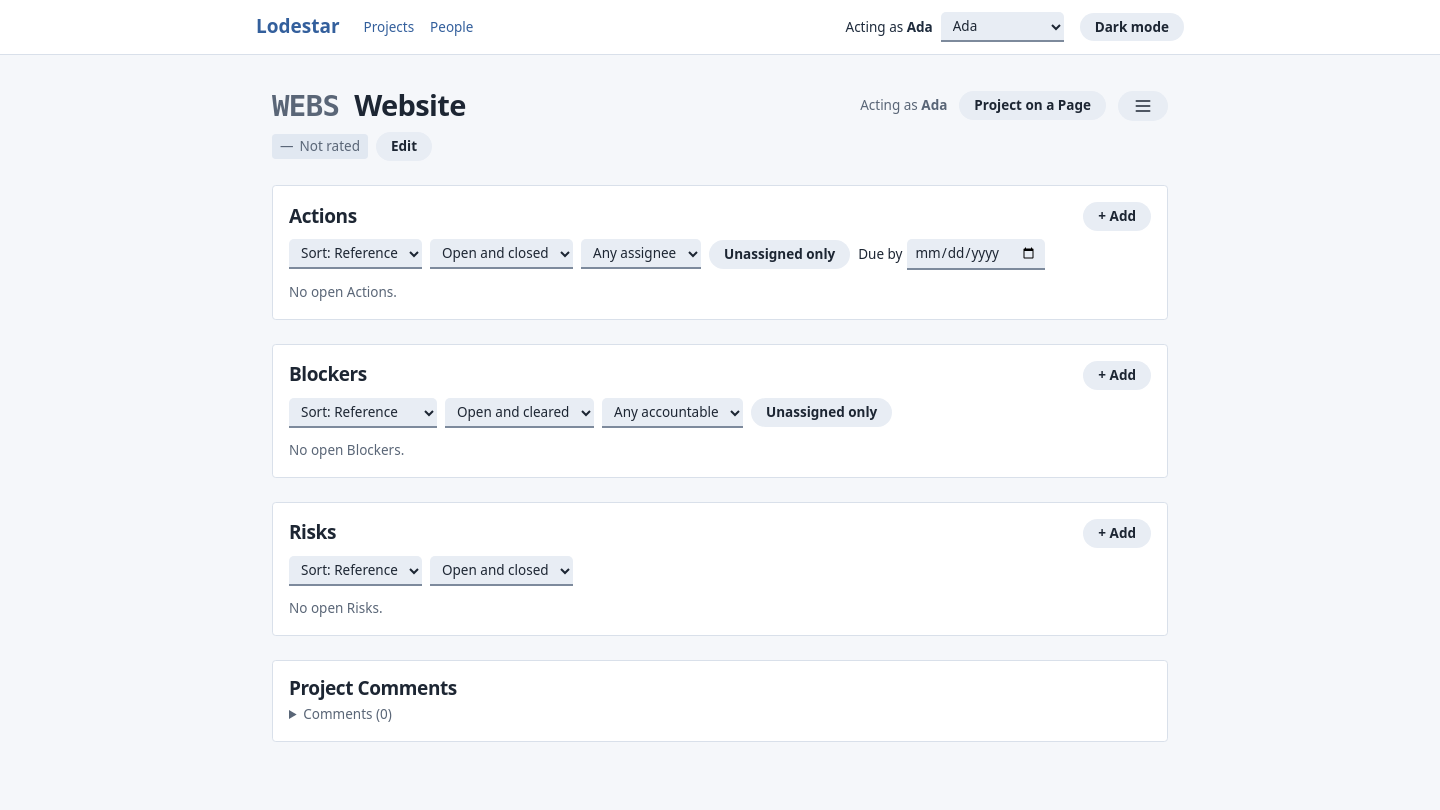
Test: Members in the meeting view › removing the leader leaves the Project flagged with no leader
This screenshot has width=1440, height=810.
Click the button named "Project menu" at [1143, 106], box [1118,91,1168,121]
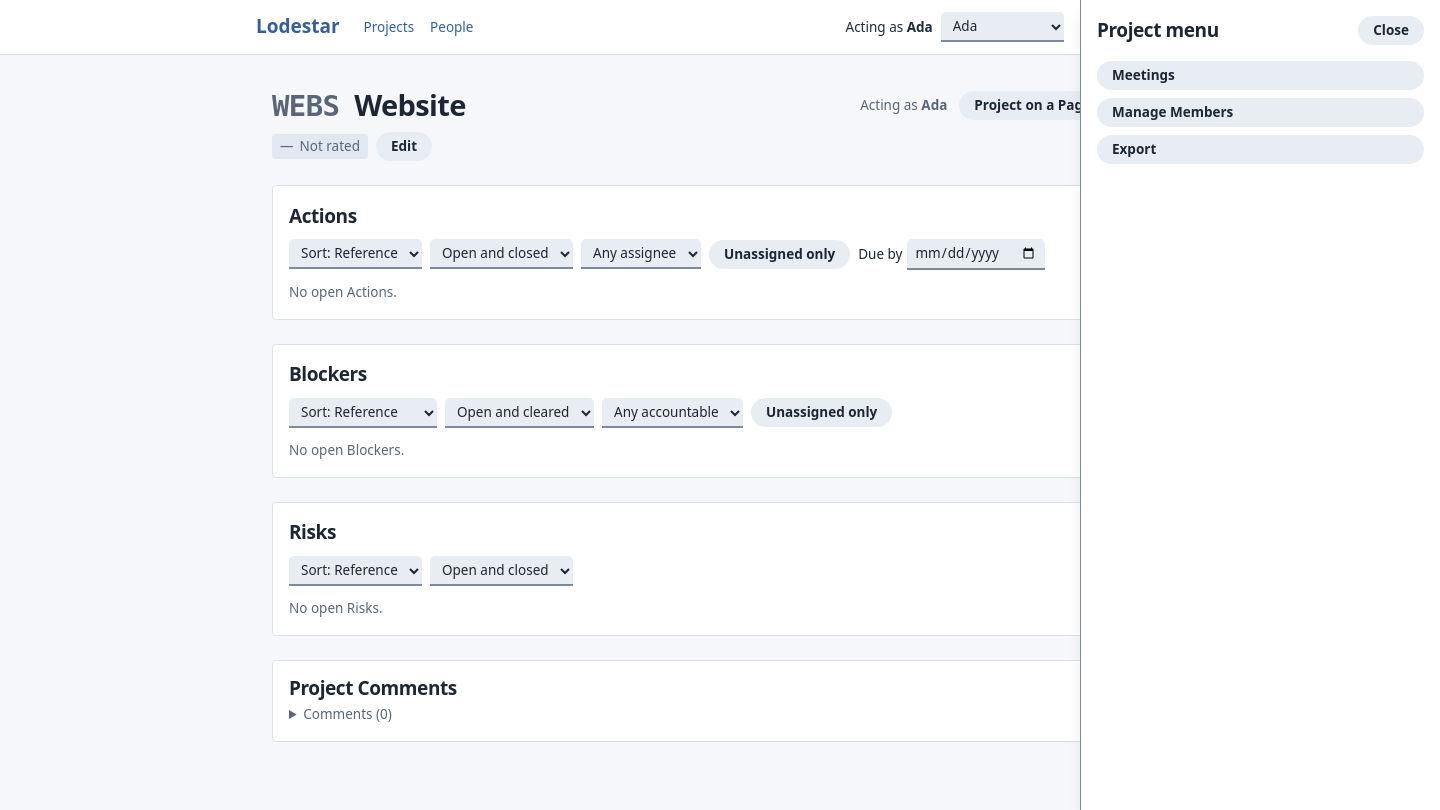
Click the button "Manage Members" at [1173, 112], box [1097,98,1424,127]
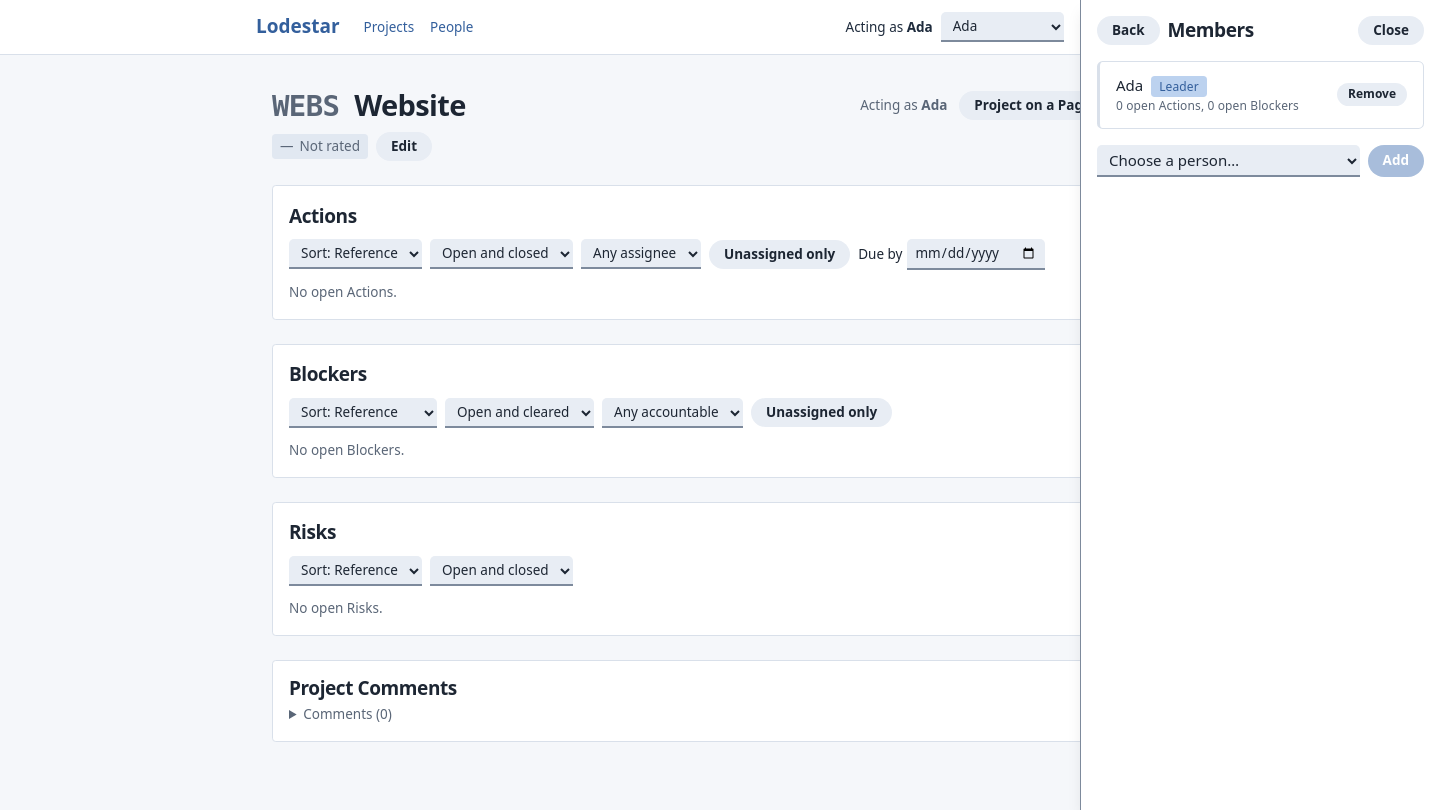
Click the button with aria-label "Remove Ada" at [1372, 95], box [1337,83,1407,106]
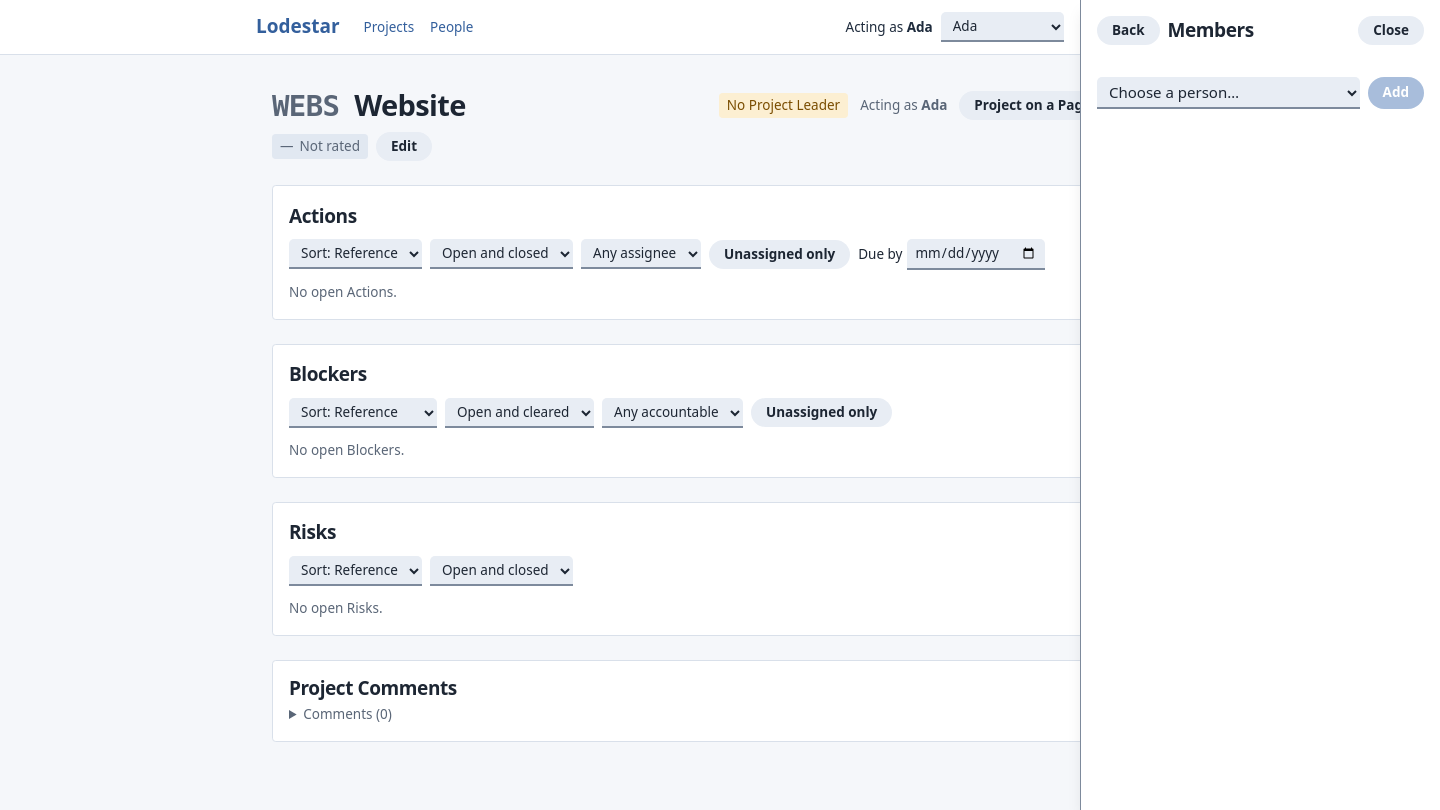
Now the text "No Project Leader" is shown, box [719,93,848,118]
